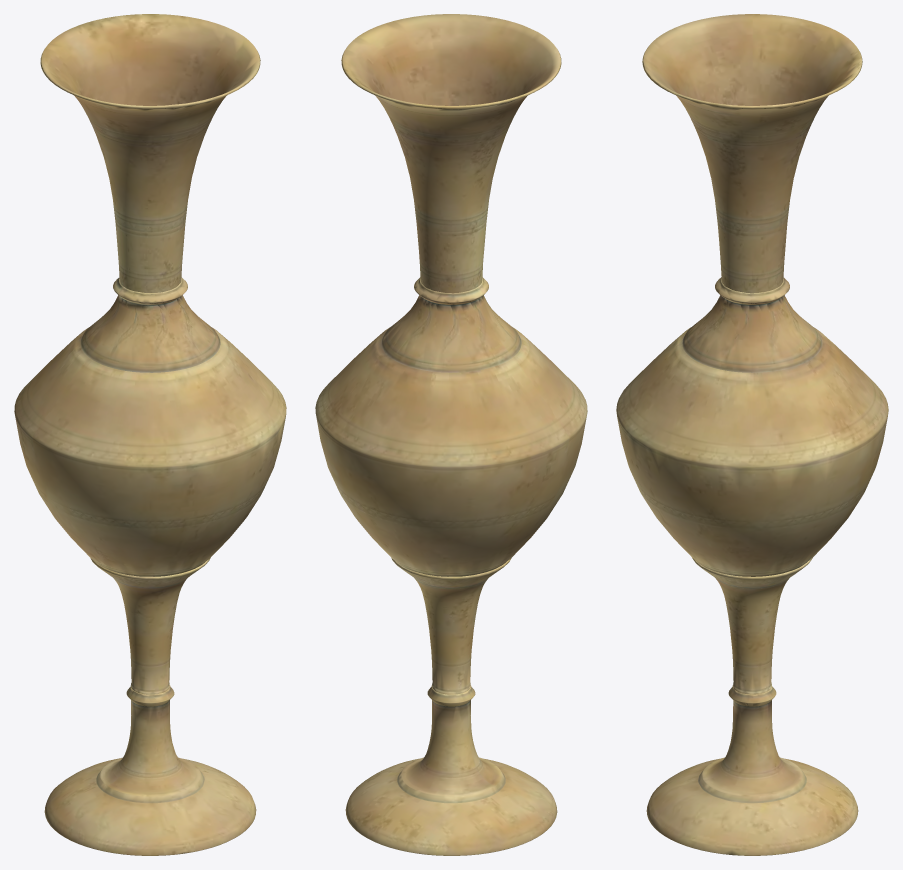
The model's file is brass_vase_01.glb.
3 views of the same model, side by side, from view 1: azimuth 30°, elevation 25°; view 2: azimuth 150°, elevation 25°; view 3: azimuth 270°, elevation 25° (orthographic).
Visible parts, largest first — view 1: brass_vase; view 2: brass_vase; view 3: brass_vase.
Boxes of the visible parts, x1=… form: brass_vase: x1=14, y1=14, x2=286, y2=855; brass_vase: x1=315, y1=14, x2=587, y2=855; brass_vase: x1=616, y1=14, x2=888, y2=855.
Size of the model in its own units: 0.2273 by 0.6925 by 0.2273.
Materials: 1 (1 with a texture image).
